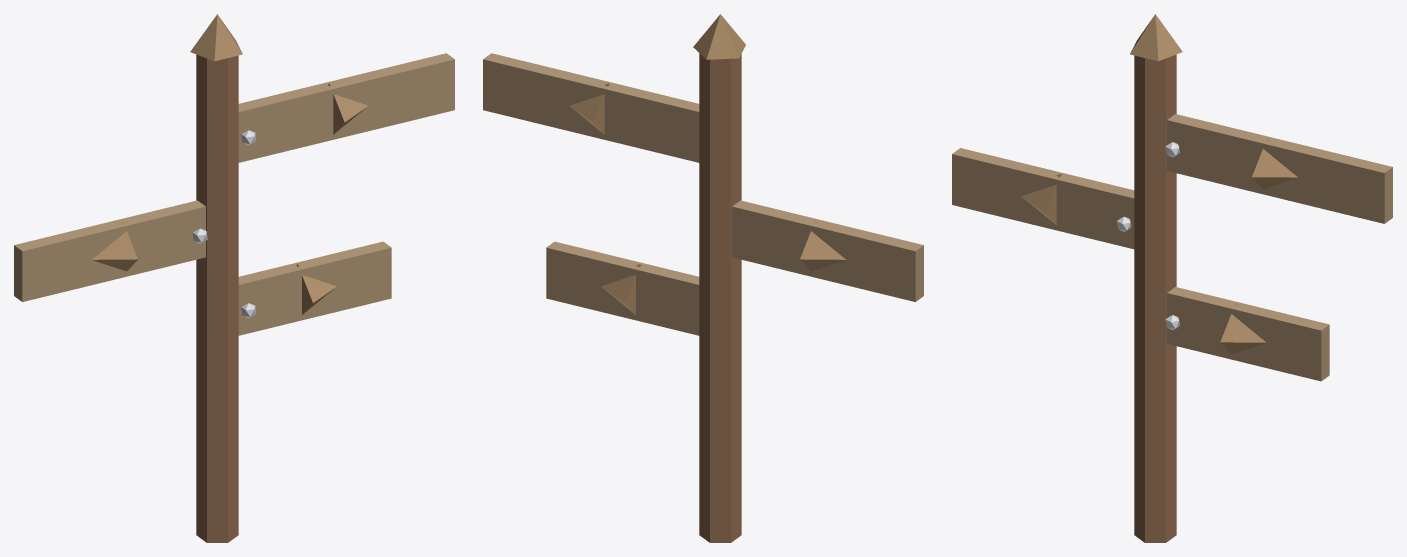
Rendered from signpost.glb.
The picture shows the model from 3 angles, left to right: view 1: azimuth 30°, elevation 25°; view 2: azimuth 150°, elevation 25°; view 3: azimuth 330°, elevation 25°; orthographic projection.
Visible parts, largest first — view 1: post.002, board_0, board_1, board_2, cap.001, arrow_1, arrow_0, arrow_2; view 2: post.002, board_0, board_1, board_2, cap.001, arrow_1, arrow_0, arrow_2; view 3: post.002, board_0, board_1, board_2, cap.001, arrow_2, arrow_0, arrow_1.
Part boxes in pixels (x1,y1,x2,y2): post.002: [196, 54, 238, 542]; board_0: [238, 53, 454, 162]; board_1: [14, 200, 205, 301]; board_2: [238, 241, 391, 335]; cap.001: [190, 14, 242, 61]; arrow_1: [92, 220, 137, 271]; arrow_0: [328, 83, 368, 134]; arrow_2: [296, 264, 336, 314]; post.002: [699, 53, 741, 542]; board_0: [483, 53, 699, 162]; board_1: [732, 200, 923, 301]; board_2: [546, 241, 699, 335]; cap.001: [693, 14, 745, 59]; arrow_1: [800, 220, 845, 271]; arrow_0: [569, 83, 609, 134]; arrow_2: [601, 264, 641, 314]; post.002: [1134, 54, 1176, 542]; board_0: [1167, 114, 1392, 223]; board_1: [952, 148, 1134, 249]; board_2: [1167, 287, 1329, 381]; cap.001: [1130, 14, 1182, 61]; arrow_2: [1220, 303, 1266, 354]; arrow_0: [1252, 138, 1297, 188]; arrow_1: [1021, 174, 1061, 224].
Size of the model in its own units: 1.78 by 2.05 by 0.22.
